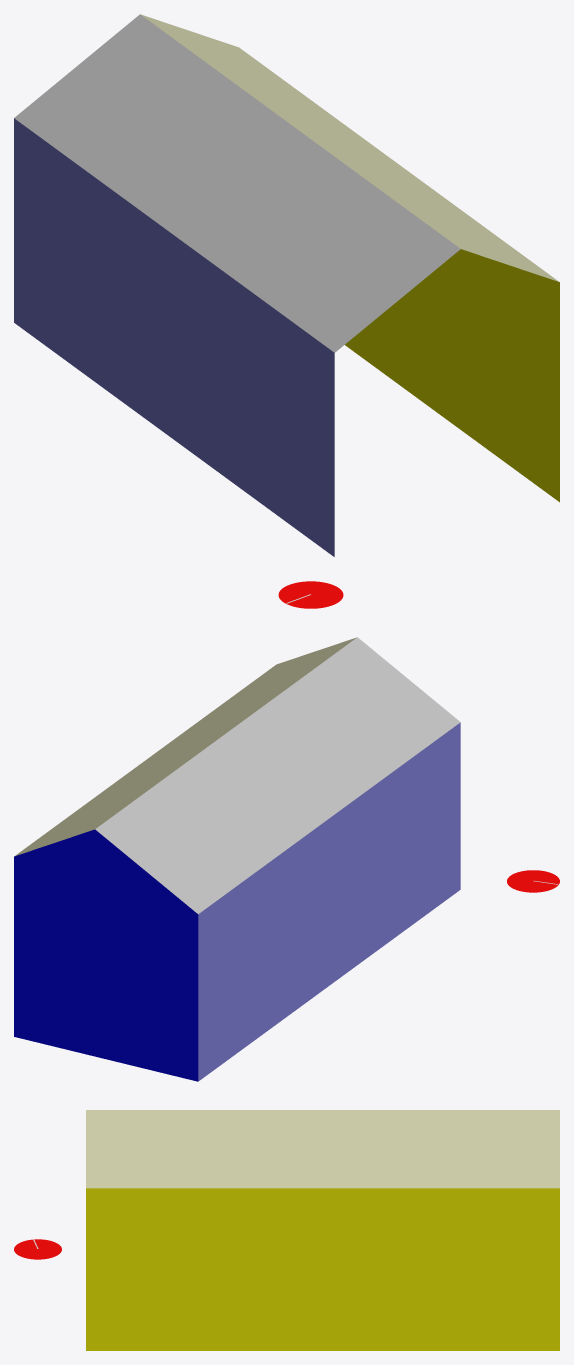
The model's file is result.glb.
The picture shows the model from 3 angles, top to bottom: view 1: azimuth 30°, elevation 25°; view 2: azimuth 150°, elevation 25°; view 3: azimuth 270°, elevation 25°; orthographic projection. The views are drawn at different scales.
Visible parts, largest first — view 1: 28f3d3d1-e8a8-4bf3-a401-2d149f93fdad__undefined, 1317c0b7-5125-490f-ade0-2dc0a150bc99__undefined, 820c7b36-4c22-471f-8873-e68c4f0d6fe5__undefined, f8c0481f-87bb-4c33-9b29-96cf62103656__undefined, 43e36baa-2d24-4807-b2bb-7309689d4fa5__Circle; view 2: 28f3d3d1-e8a8-4bf3-a401-2d149f93fdad__undefined, 1317c0b7-5125-490f-ade0-2dc0a150bc99__undefined, e1d77206-c2ea-4919-b23f-58424ef2df8b__undefined, f8c0481f-87bb-4c33-9b29-96cf62103656__undefined, 43e36baa-2d24-4807-b2bb-7309689d4fa5__Circle; view 3: 820c7b36-4c22-471f-8873-e68c4f0d6fe5__undefined, f8c0481f-87bb-4c33-9b29-96cf62103656__undefined, 43e36baa-2d24-4807-b2bb-7309689d4fa5__Circle.
Boxes of the visible parts, x1,y1,x2,y2 form: 28f3d3d1-e8a8-4bf3-a401-2d149f93fdad__undefined: (14,118,334,556); 1317c0b7-5125-490f-ade0-2dc0a150bc99__undefined: (14,14,460,352); 820c7b36-4c22-471f-8873-e68c4f0d6fe5__undefined: (345,249,559,502); f8c0481f-87bb-4c33-9b29-96cf62103656__undefined: (141,14,558,281); 43e36baa-2d24-4807-b2bb-7309689d4fa5__Circle: (278,581,343,608); 28f3d3d1-e8a8-4bf3-a401-2d149f93fdad__undefined: (198,722,460,1081); 1317c0b7-5125-490f-ade0-2dc0a150bc99__undefined: (95,637,460,914); e1d77206-c2ea-4919-b23f-58424ef2df8b__undefined: (14,829,198,1081); f8c0481f-87bb-4c33-9b29-96cf62103656__undefined: (14,637,356,856); 43e36baa-2d24-4807-b2bb-7309689d4fa5__Circle: (507,870,559,892); 820c7b36-4c22-471f-8873-e68c4f0d6fe5__undefined: (86,1188,559,1350); f8c0481f-87bb-4c33-9b29-96cf62103656__undefined: (86,1110,559,1188); 43e36baa-2d24-4807-b2bb-7309689d4fa5__Circle: (14,1239,61,1259).
Bounding box in the file's own units: 550 × 471 × 1137.
